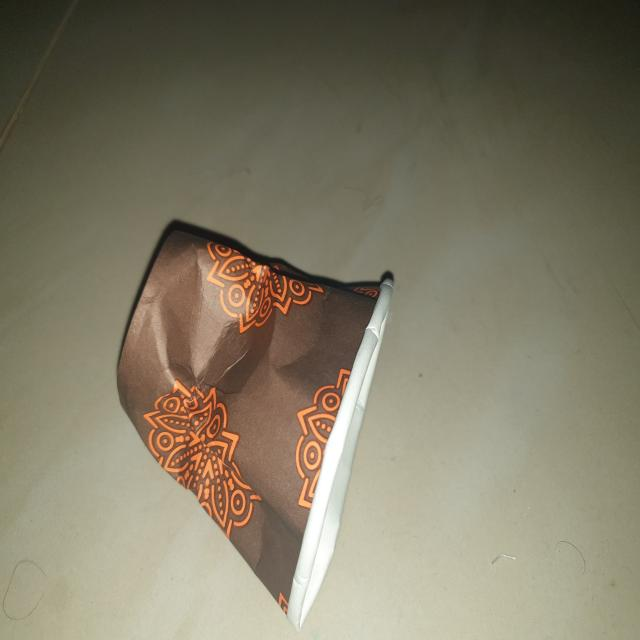cups: (112, 209, 401, 640)
